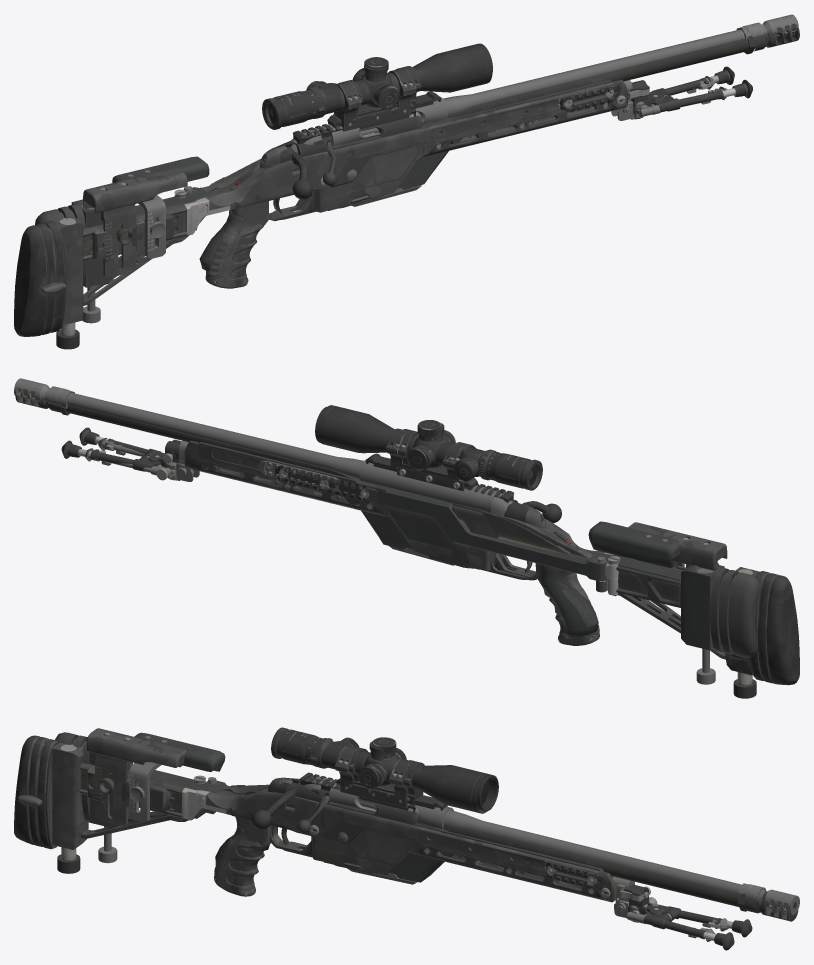
The picture shows the model from 3 angles, top to bottom: view 1: azimuth 30°, elevation 25°; view 2: azimuth 150°, elevation 25°; view 3: azimuth 330°, elevation 25°; orthographic projection.
Visible parts, largest first — view 1: weapon_snip_ssg08.vmdl_c.body_hd, weapon_snip_ssg08.vmdl_c.body_legacy; view 2: weapon_snip_ssg08.vmdl_c.body_legacy, weapon_snip_ssg08.vmdl_c.body_hd; view 3: weapon_snip_ssg08.vmdl_c.body_hd, weapon_snip_ssg08.vmdl_c.body_legacy.
Part boxes in pixels (x1=…): weapon_snip_ssg08.vmdl_c.body_hd: x1=14, y1=24, x2=799, y2=349; weapon_snip_ssg08.vmdl_c.body_legacy: x1=35, y1=14, x2=798, y2=323; weapon_snip_ssg08.vmdl_c.body_legacy: x1=14, y1=378, x2=761, y2=684; weapon_snip_ssg08.vmdl_c.body_hd: x1=15, y1=387, x2=799, y2=698; weapon_snip_ssg08.vmdl_c.body_hd: x1=14, y1=728, x2=798, y2=950; weapon_snip_ssg08.vmdl_c.body_legacy: x1=55, y1=727, x2=799, y2=941.
Size of the model in its own units: 51.16 by 12.61 by 5.02.
Materials: 4 (3 with a texture image).
